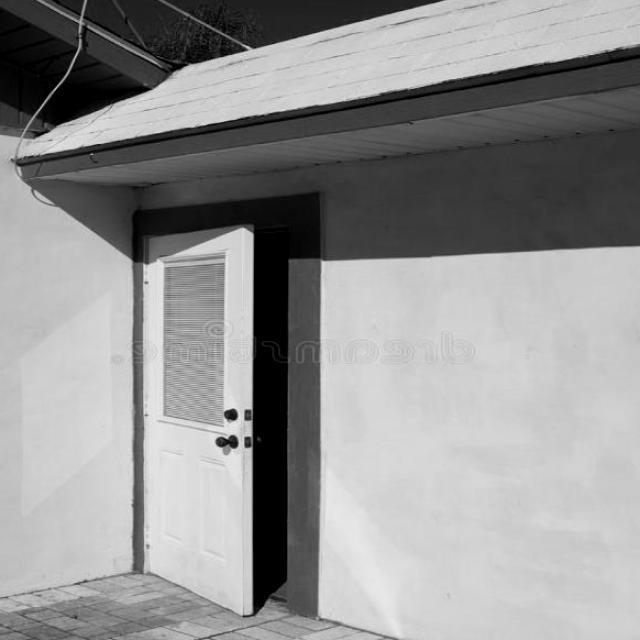door: (141, 223, 255, 616)
